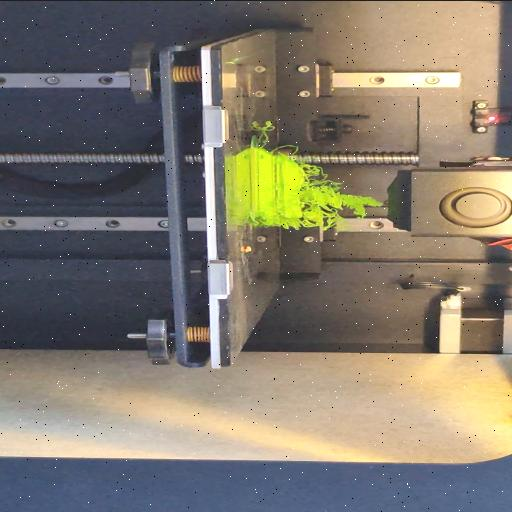spaghetti: (296, 162, 385, 232), (250, 216, 298, 230), (256, 120, 272, 146), (266, 144, 300, 156)
